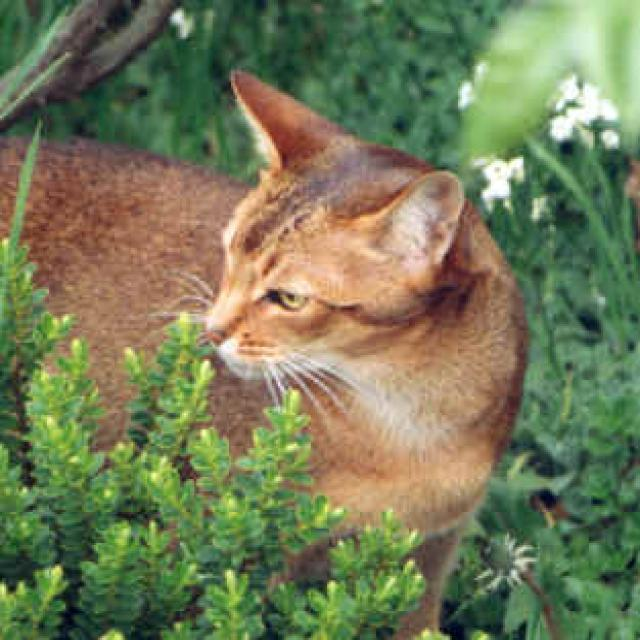Abyssinian: (201, 68, 485, 376)
